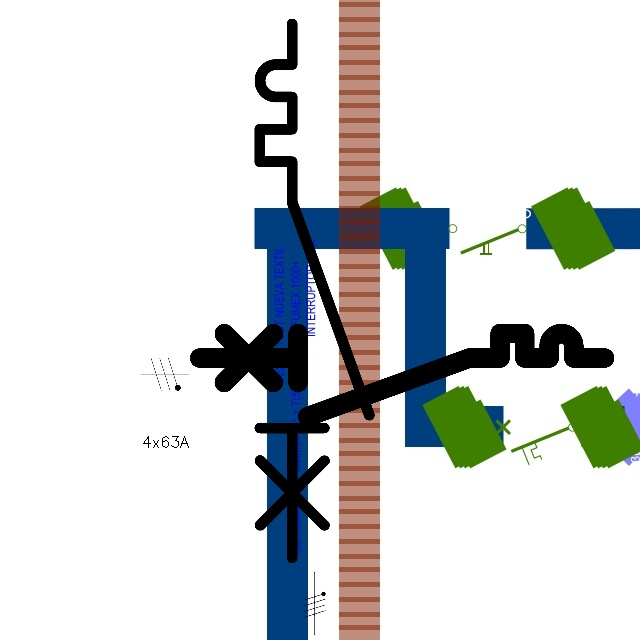interruptor_termomagnetico: (246, 10, 383, 571), (189, 323, 615, 427)
